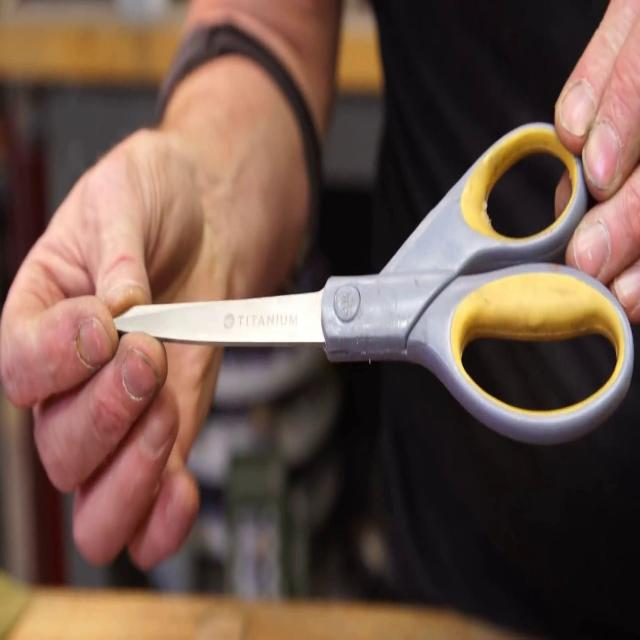scissor: (113, 124, 634, 446)
